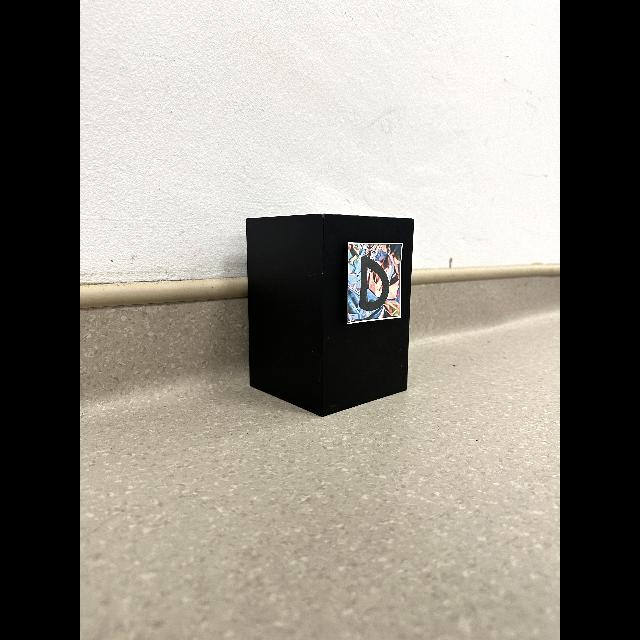D: (360, 255, 389, 311)
